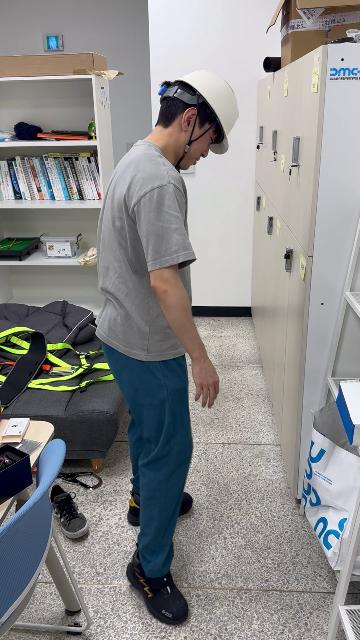helmet_worn: (172, 71, 238, 151)
shoe_not_worn: (49, 484, 90, 539)
shoe_worn: (127, 549, 189, 626), (126, 490, 191, 526), (127, 491, 141, 527)
vest_not_worn: (92, 142, 192, 372)
